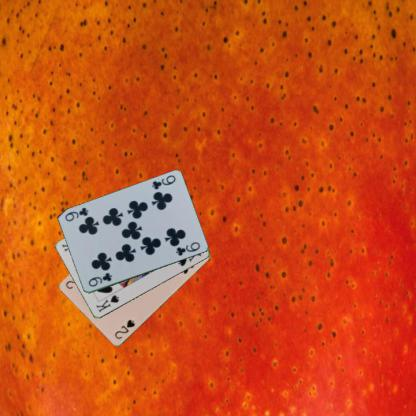2s: (112, 318, 136, 340)
9c: (149, 173, 177, 191), (86, 270, 113, 288)
Ks: (94, 292, 120, 314)
